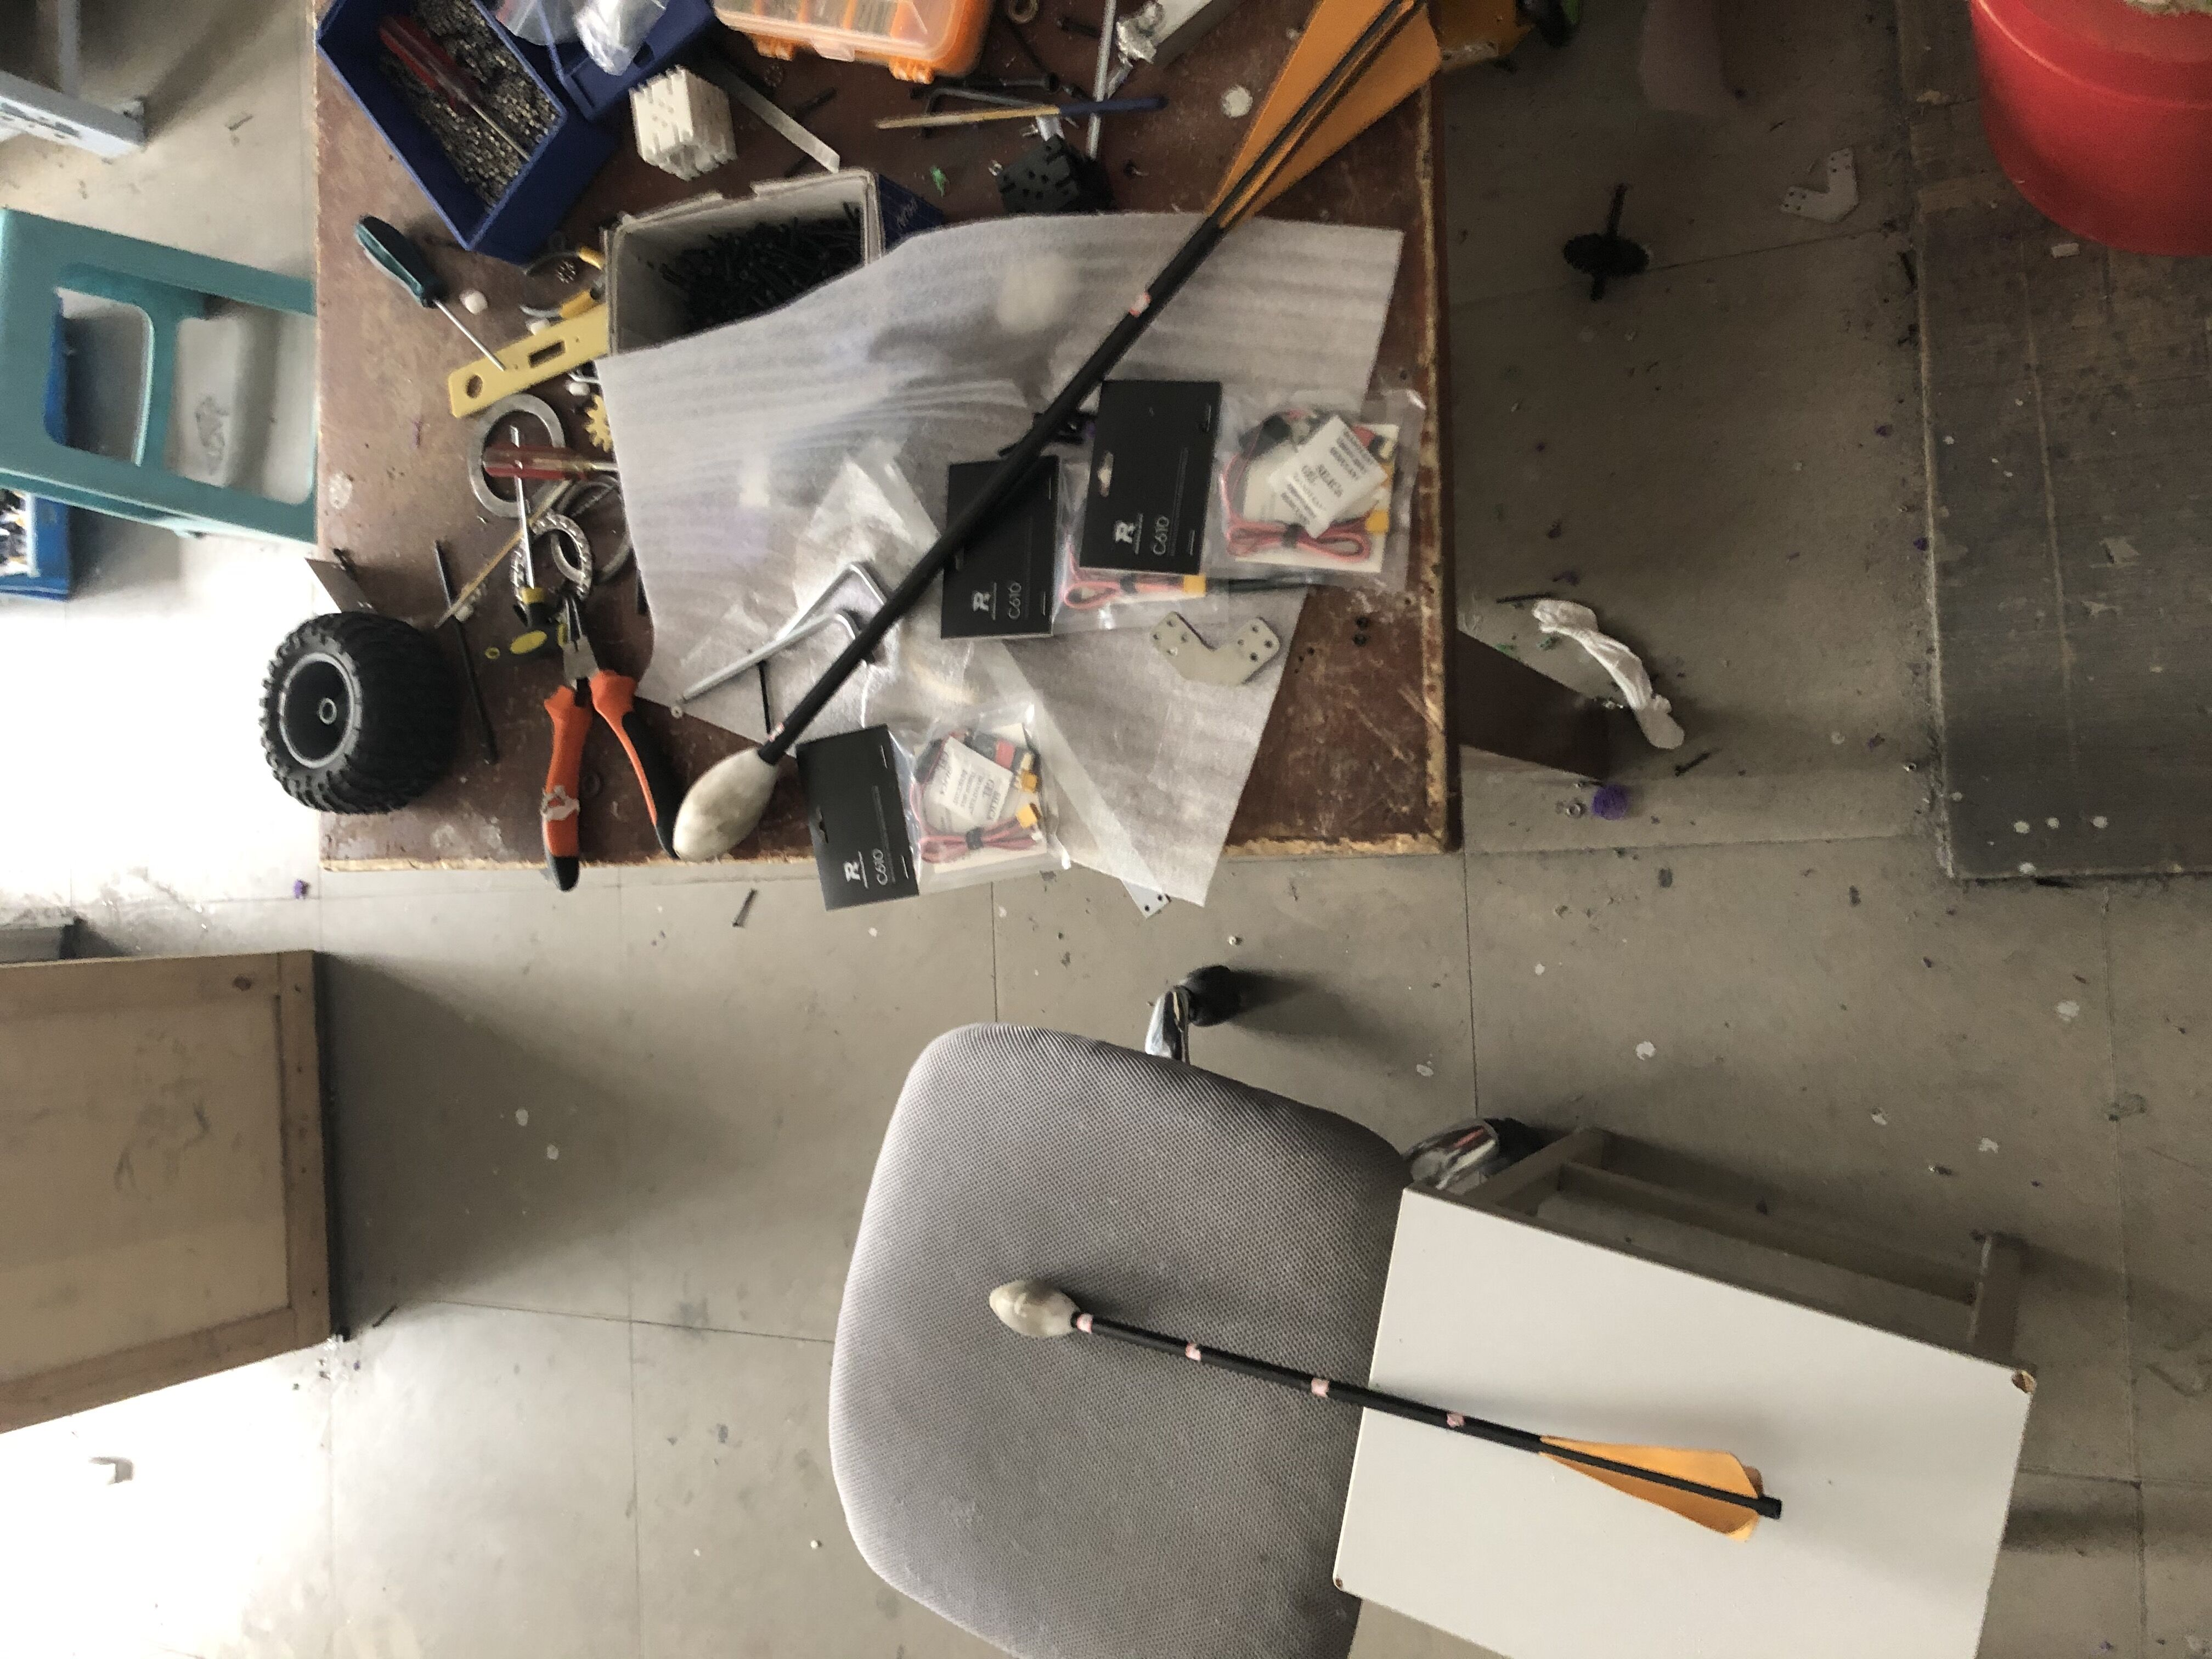arrow: (672, 5, 1446, 863), (989, 1279, 1785, 1546)
arrowFront: (674, 741, 786, 859), (989, 1277, 1082, 1338)
